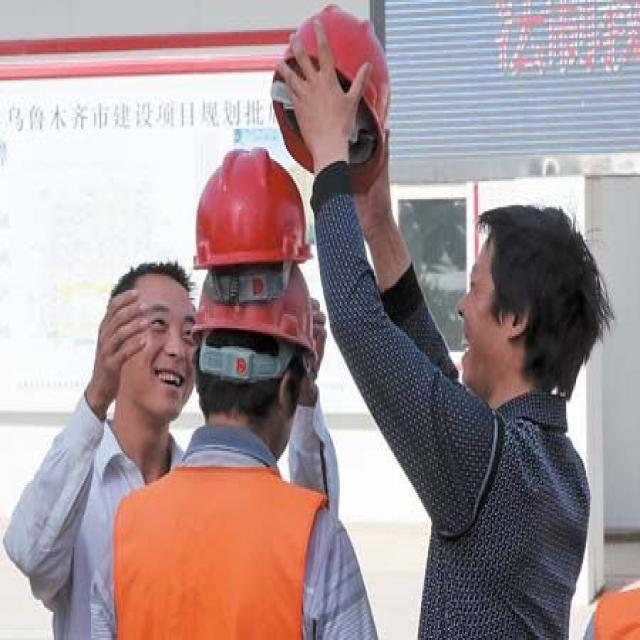Reflective-Jacket: (111, 447, 333, 640)
Safety-Helmet: (264, 4, 390, 173), (185, 141, 313, 282)
